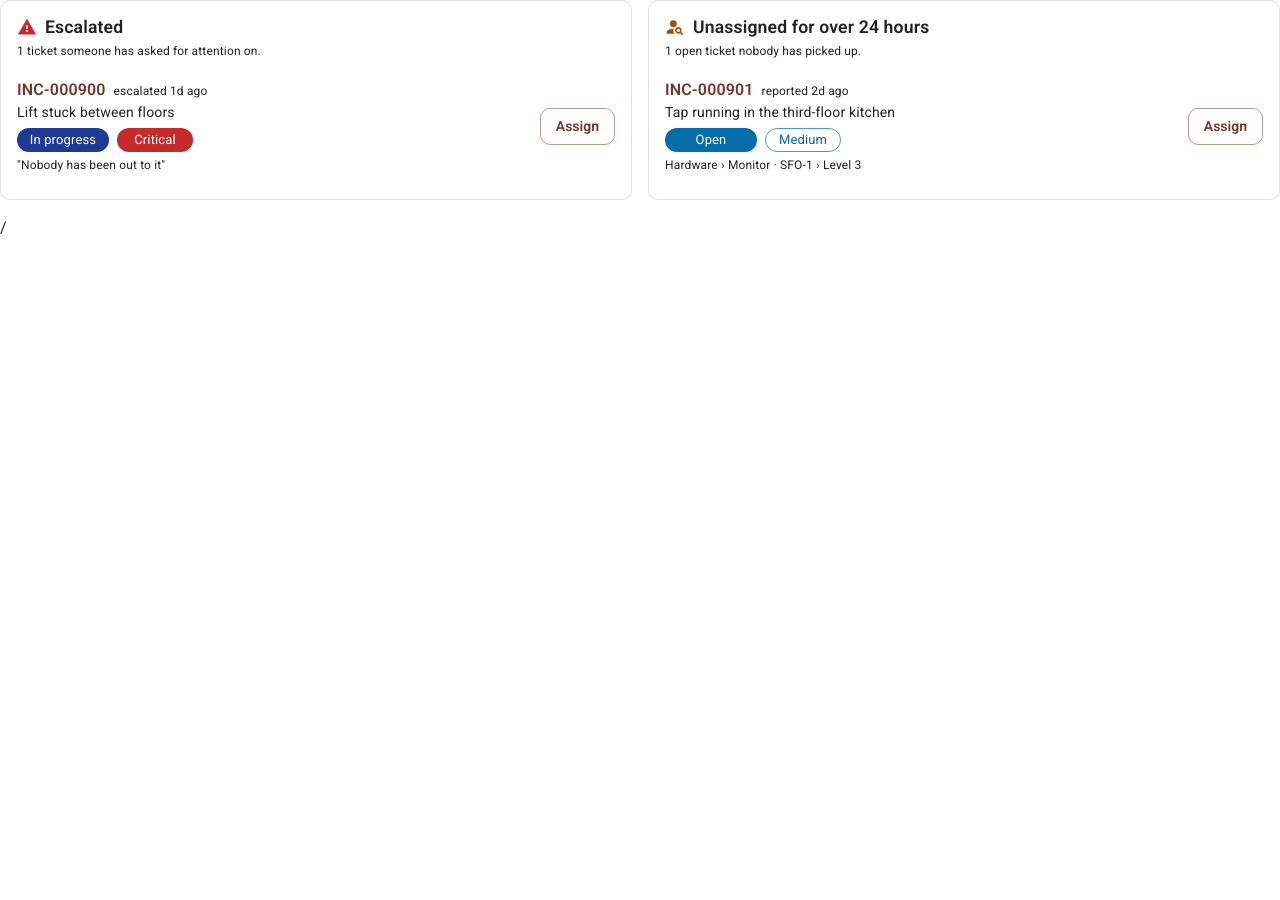
Scenario: an attention row › lets Assign open its dialog instead of opening the ticket
This screenshot has width=1280, height=900.
Step 1. Click the button "Assign" in the row of "Critical" → (577, 126), box [540,108,615,145]
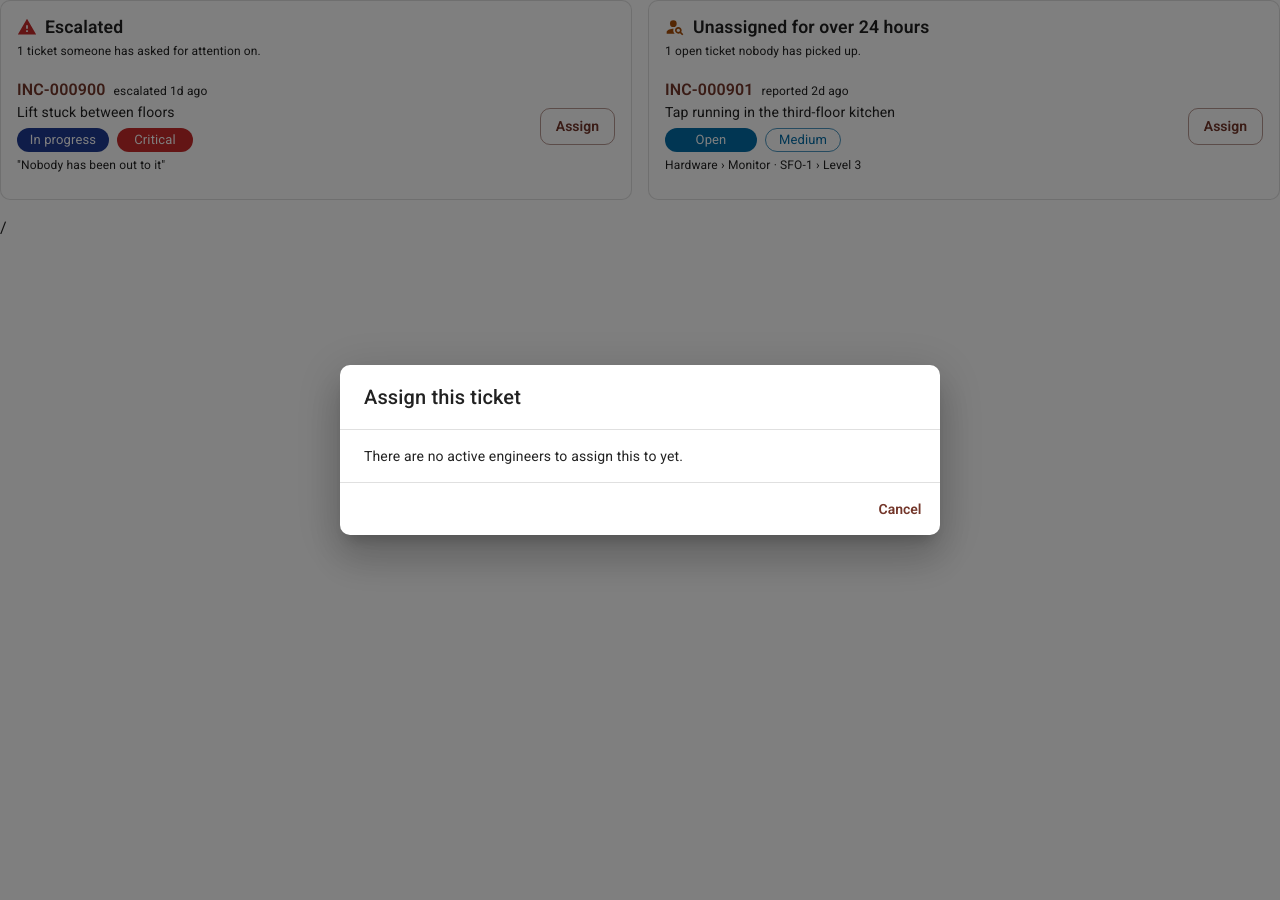
Check: the dialog is shown, box [340,365,940,535]
